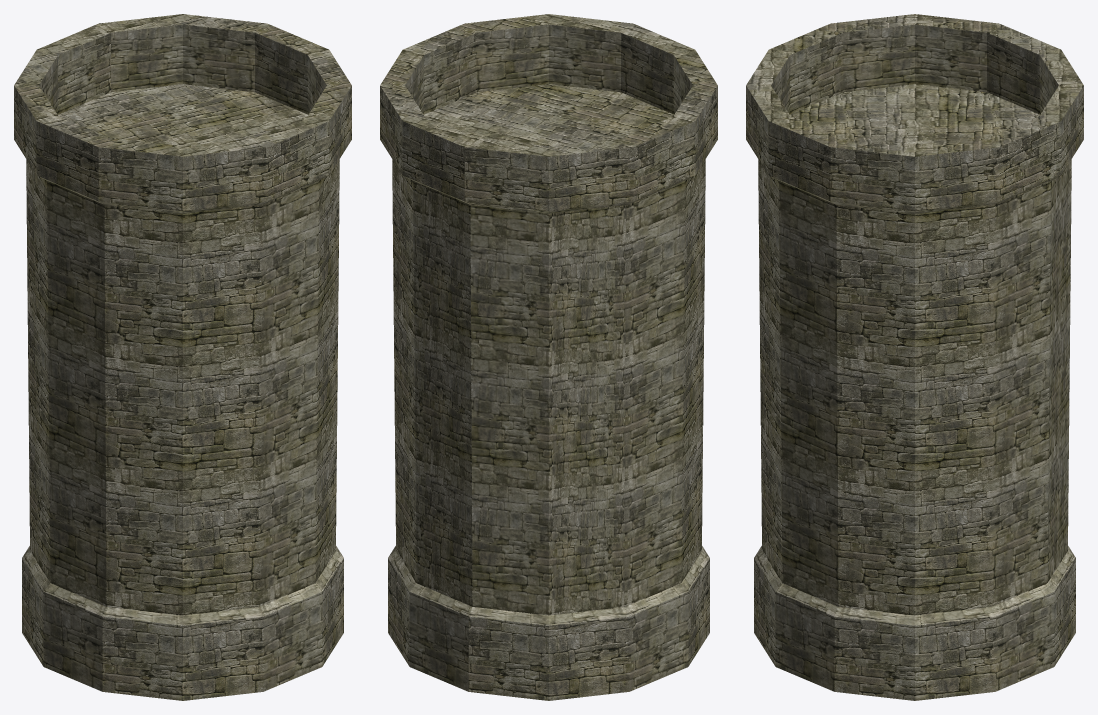
Rendered from tower3_LOD2.fbx.
The picture shows the model from 3 angles, left to right: view 1: azimuth 30°, elevation 25°; view 2: azimuth 150°, elevation 25°; view 3: azimuth 270°, elevation 25°; orthographic projection.
Visible parts, largest first — view 1: Default_Layer; view 2: Default_Layer; view 3: Default_Layer.
Part boxes in pixels (left/top/right/bottom): Default_Layer: left=14, top=14, right=351, bottom=700; Default_Layer: left=380, top=14, right=717, bottom=700; Default_Layer: left=746, top=14, right=1083, bottom=700.
Size of the model in its own units: 1454 by 2601 by 1454.
